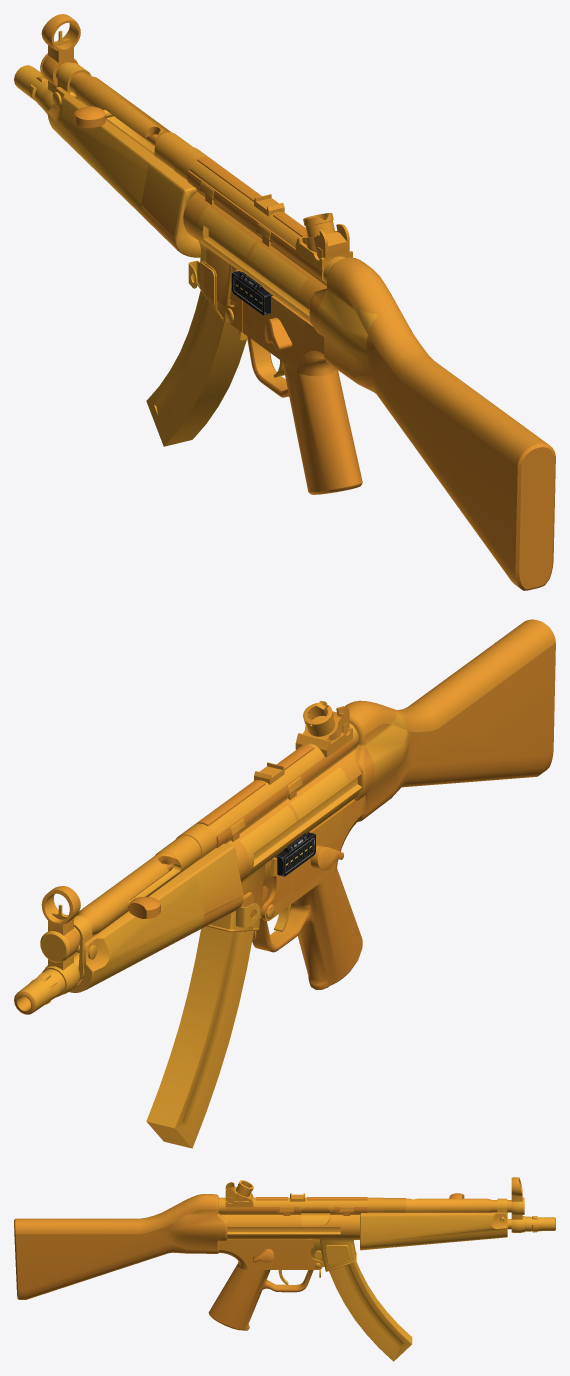
3 renders of one model, top to bottom at view 1: azimuth 30°, elevation 25°; view 2: azimuth 150°, elevation 25°; view 3: azimuth 270°, elevation 25°, orthographic. The views are drawn at different scales.
Visible parts, largest first — view 1: LOD_Template.001, Magazine1.001, Sticker3, Sticker2, Sticker4, Sticker1, StatTrack.003, Gunlock1.001; view 2: LOD_Template.001, Magazine1.001, Sticker3, Sticker2, Sticker4, Sticker1, StatTrack.003, Gunlock1.001; view 3: LOD_Template.001, Magazine1.001.
Boxes of the visible parts, x1=… form: LOD_Template.001: x1=14, y1=14, x2=555, y2=590; Magazine1.001: x1=146, y1=290, x2=246, y2=446; Sticker3: x1=250, y1=243, x2=309, y2=366; Sticker2: x1=198, y1=205, x2=255, y2=327; Sticker4: x1=318, y1=287, x2=377, y2=390; Sticker1: x1=141, y1=165, x2=182, y2=250; StatTrack.003: x1=231, y1=271, x2=272, y2=315; Gunlock1.001: x1=74, y1=106, x2=157, y2=145; LOD_Template.001: x1=14, y1=619, x2=555, y2=1014; Magazine1.001: x1=146, y1=926, x2=253, y2=1148; Sticker3: x1=290, y1=767, x2=348, y2=893; Sticker2: x1=239, y1=805, x2=296, y2=918; Sticker4: x1=365, y1=711, x2=408, y2=816; Sticker1: x1=197, y1=849, x2=242, y2=930; StatTrack.003: x1=275, y1=832, x2=315, y2=876; Gunlock1.001: x1=127, y1=863, x2=173, y2=918; LOD_Template.001: x1=14, y1=1177, x2=555, y2=1330; Magazine1.001: x1=329, y1=1261, x2=412, y2=1361.
Bounding box in the file's own units: 0.0668 × 0.29 × 0.7907.
Materials: 6 (6 with a texture image).
